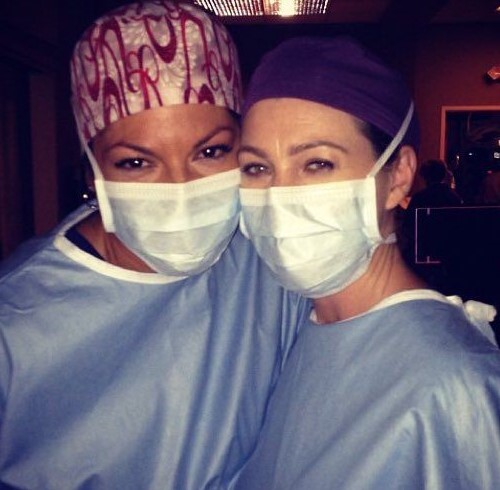face_with_mask: (68, 3, 240, 278), (242, 35, 417, 299)
